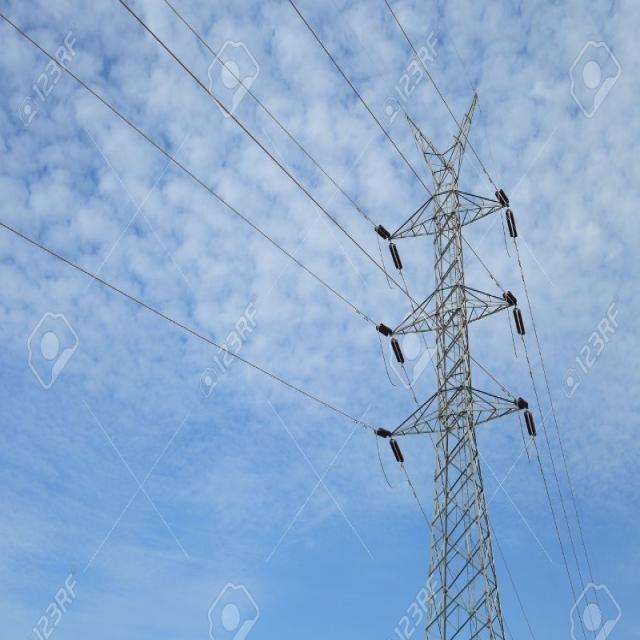non-critical vegetation: (364, 92, 534, 634)
